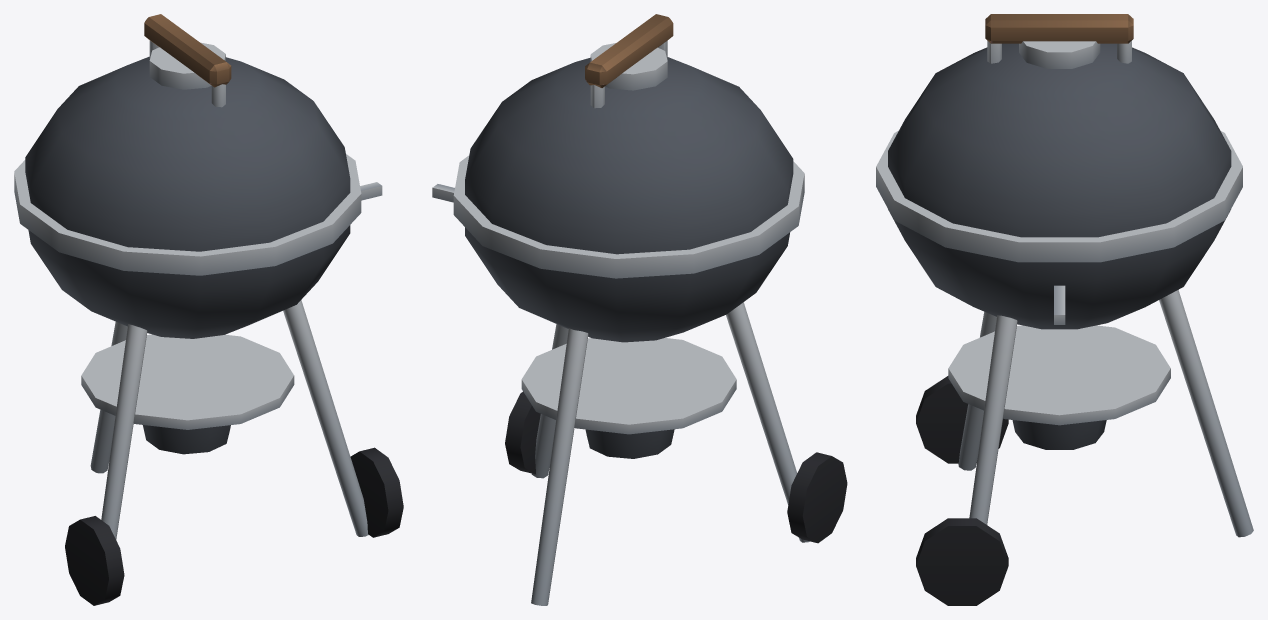
The model's file is ck_barbecue.fbx.
3 renders of one model, left to right at view 1: azimuth 30°, elevation 25°; view 2: azimuth 150°, elevation 25°; view 3: azimuth 270°, elevation 25°, orthographic. The views are drawn at different scales.
Parts seen in each view (by area): view 1: ck_barbecue; view 2: ck_barbecue; view 3: ck_barbecue.
Boxes of the visible parts, <box> form: ck_barbecue: <box>14,14,403,605</box>; ck_barbecue: <box>432,14,847,605</box>; ck_barbecue: <box>876,14,1253,605</box>.
Bounding box in the file's own units: 223 × 310 × 205.
